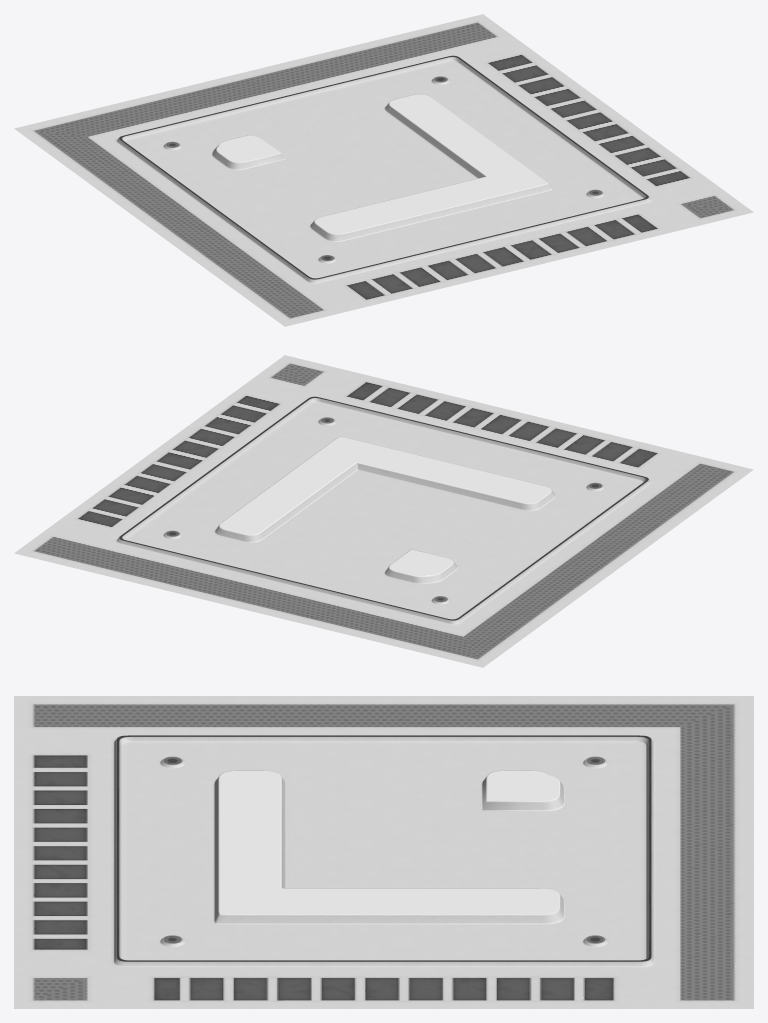
Rendered from SM_MCeiling03-2-350x350-Corner.FBX.
3 renders of one model, top to bottom at view 1: azimuth 30°, elevation 25°; view 2: azimuth 150°, elevation 25°; view 3: azimuth 270°, elevation 25°, orthographic. The views are drawn at different scales.
Parts seen in each view (by area): view 1: SM_MCeiling03-2-350x350-Corner; view 2: SM_MCeiling03-2-350x350-Corner; view 3: SM_MCeiling03-2-350x350-Corner.
Boxes of the visible parts, left/top/right/bottom form: SM_MCeiling03-2-350x350-Corner: left=14, top=14, right=753, bottom=326; SM_MCeiling03-2-350x350-Corner: left=14, top=355, right=753, bottom=667; SM_MCeiling03-2-350x350-Corner: left=14, top=696, right=753, bottom=1008.
Size of what is drawn, in the model's own units: 350 by 350 by 4.
